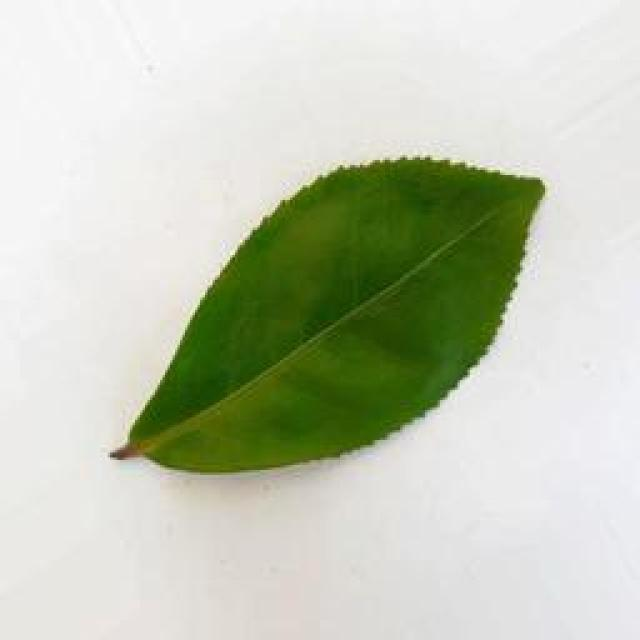Healthy: (97, 154, 574, 484)
